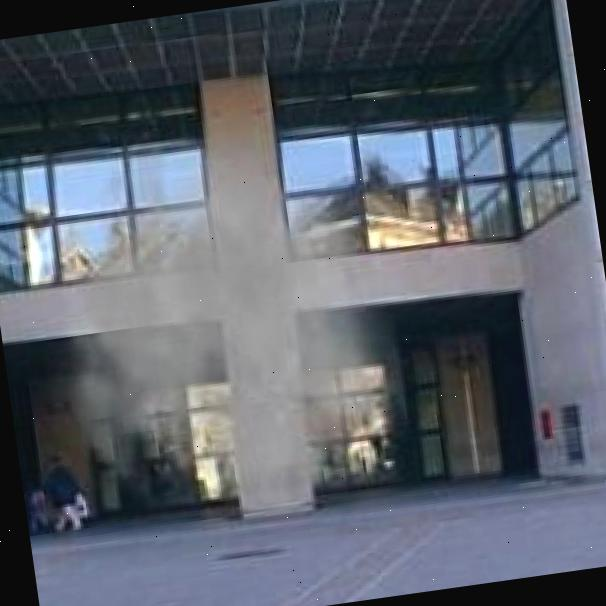smoke: (3, 95, 420, 555)
